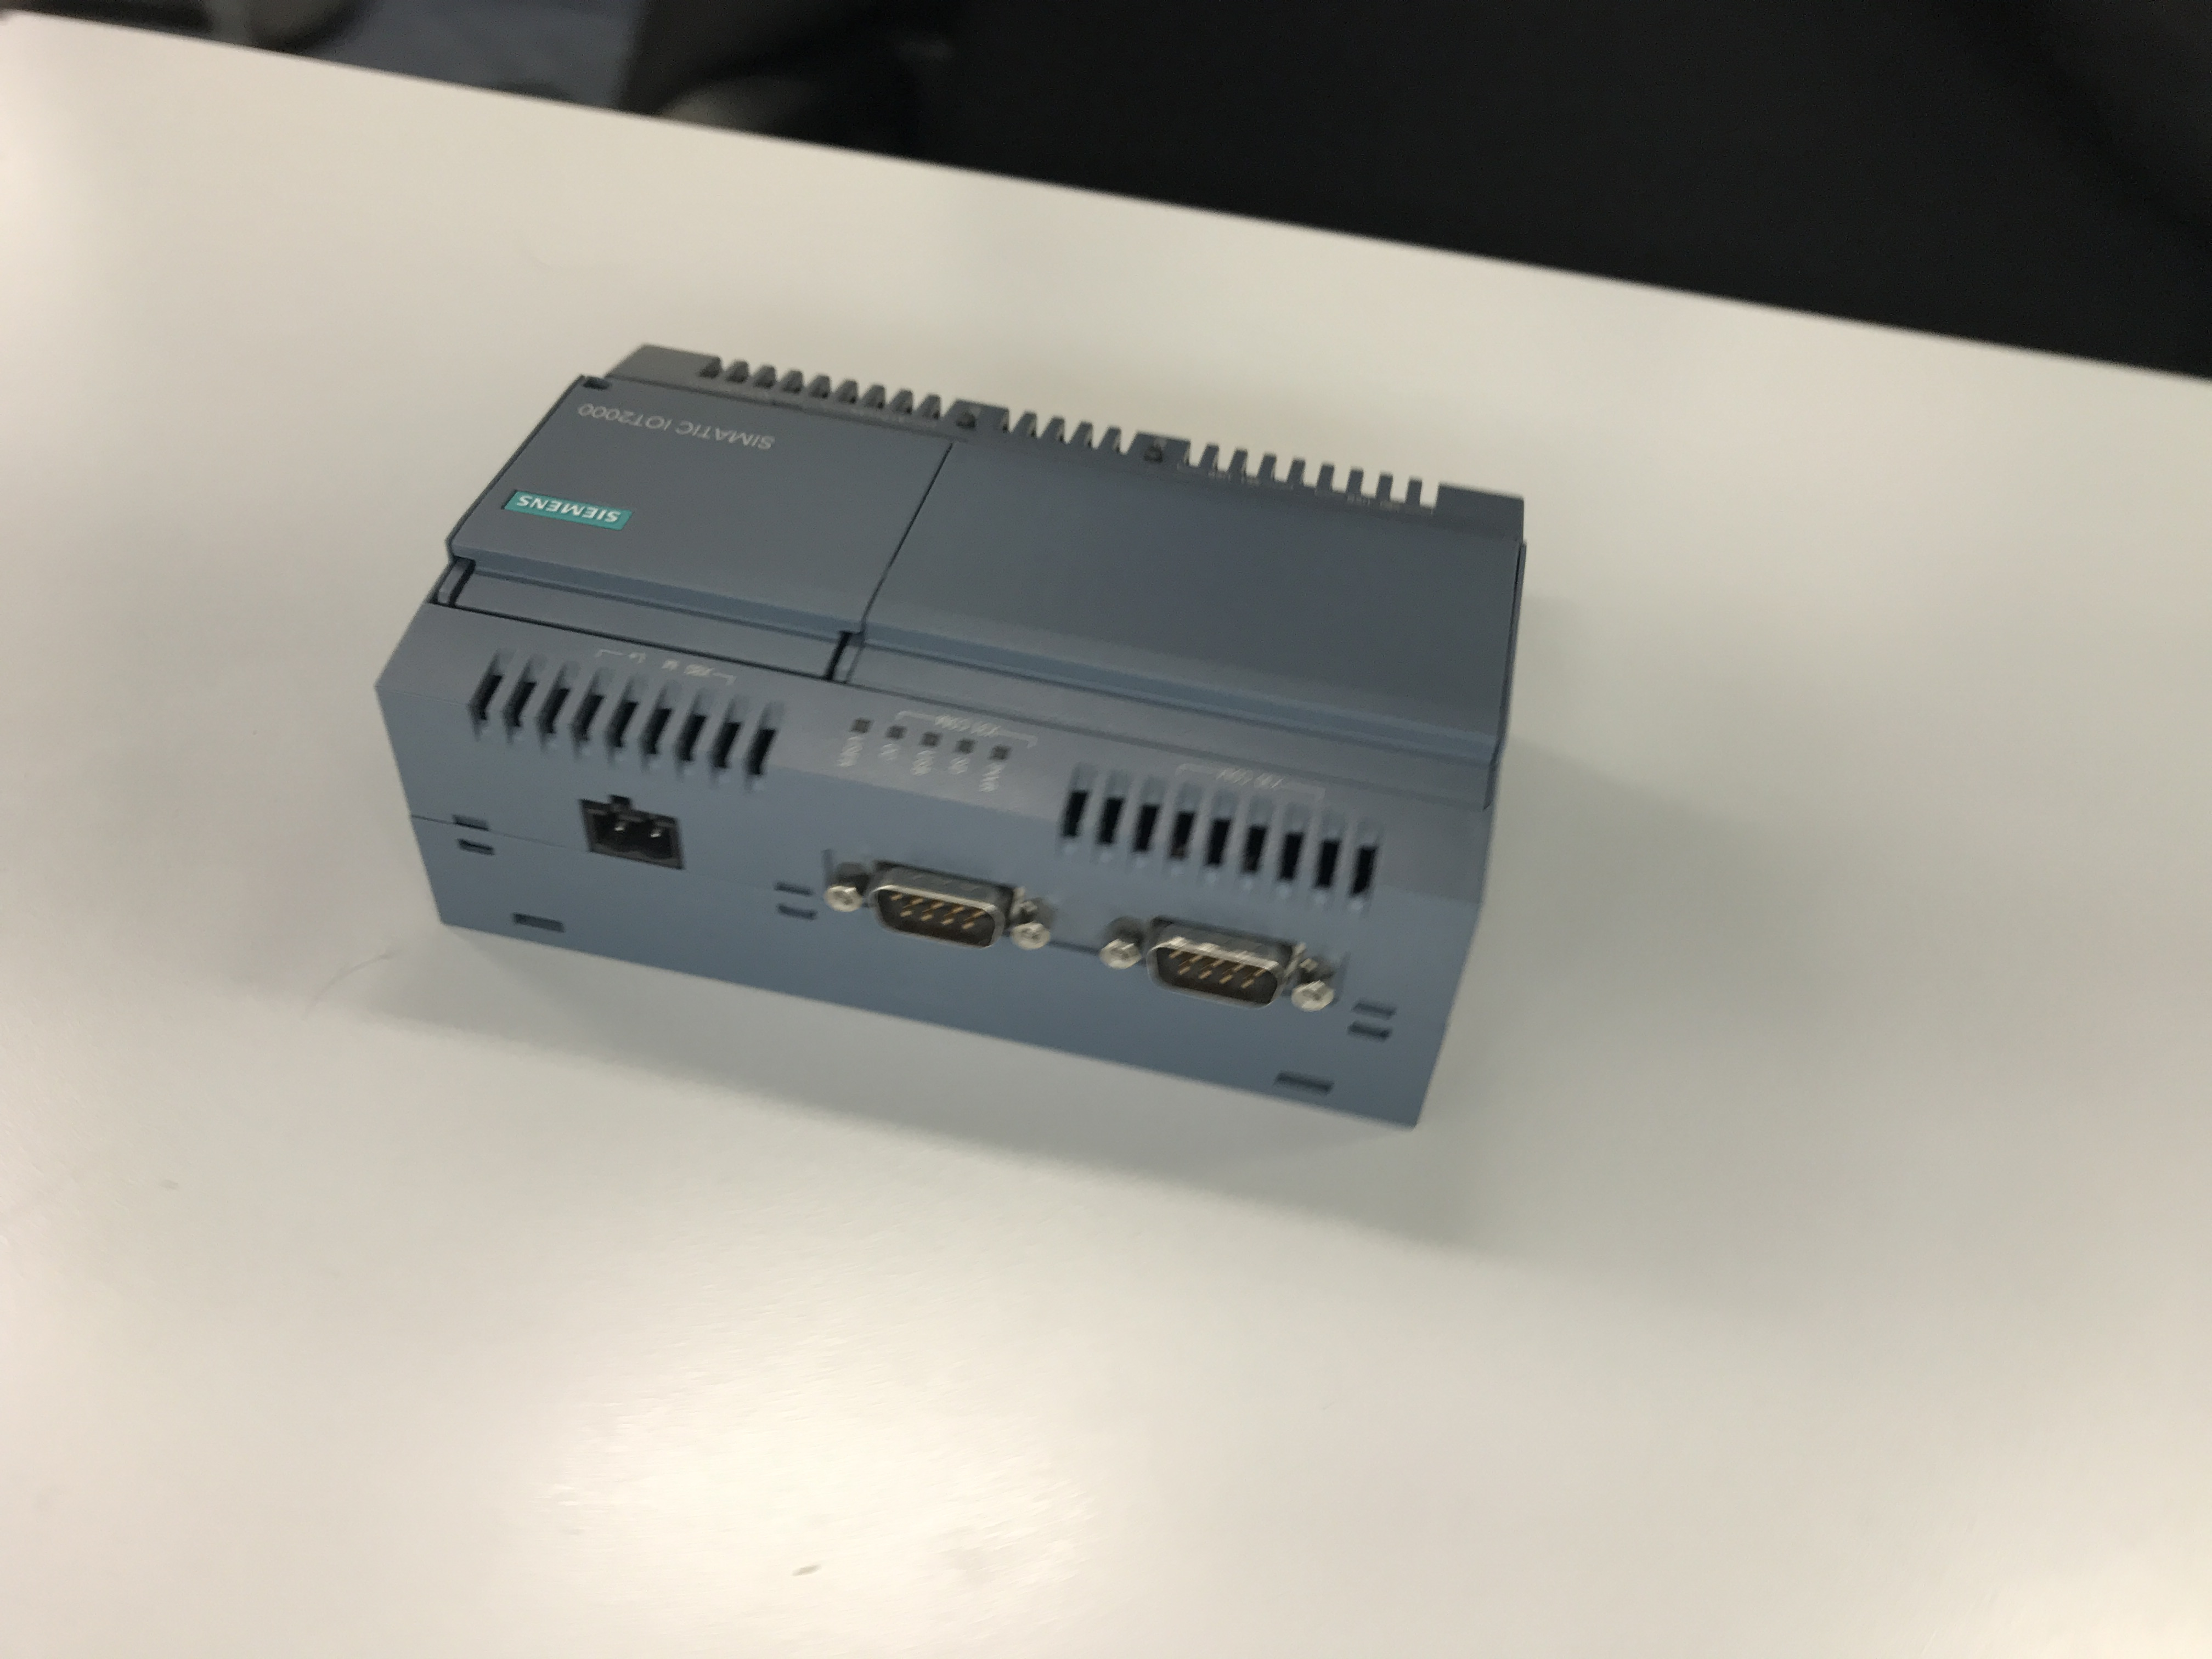device: (371, 342, 1531, 1131)
